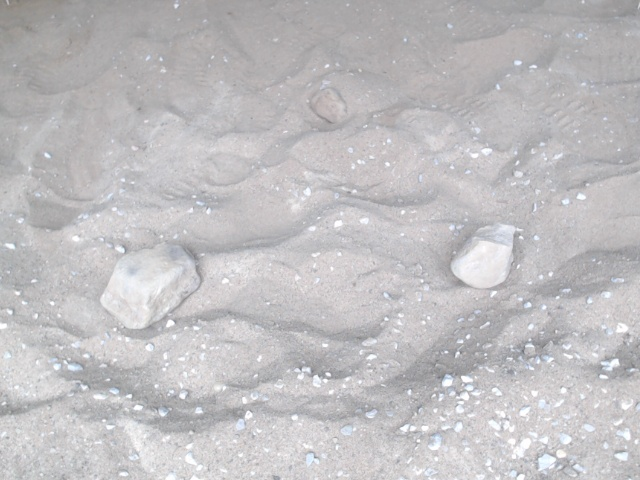rock: (95, 236, 205, 336), (445, 219, 522, 294), (306, 84, 350, 128)
